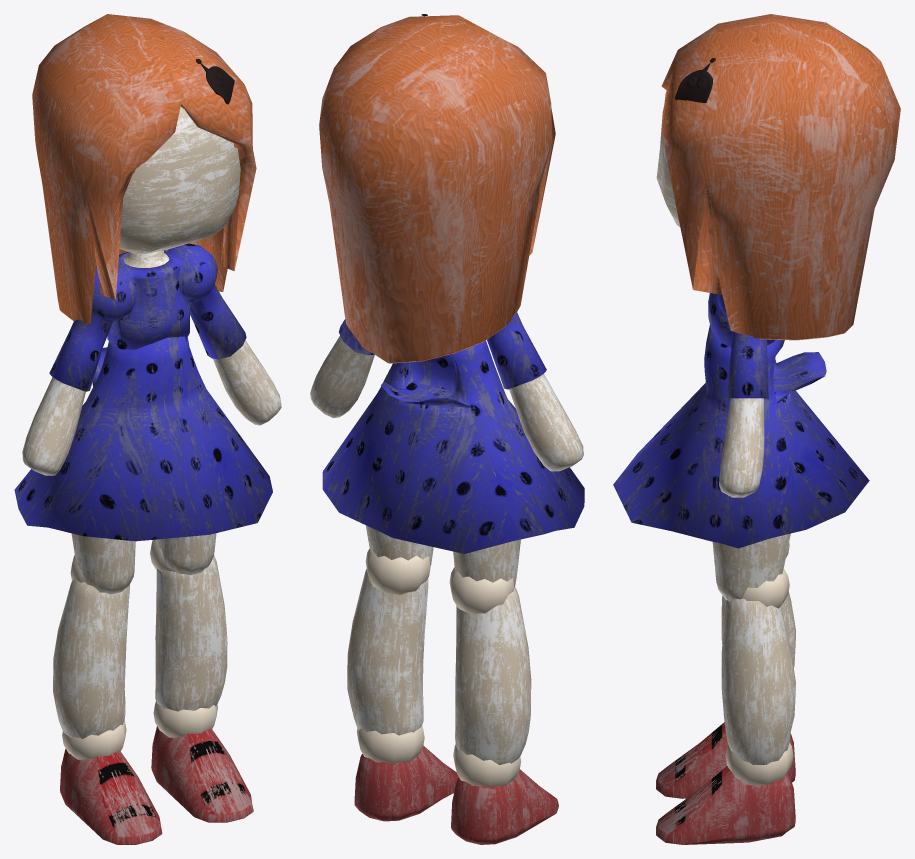
Rendered from boneca.fbx.
3 views of the same model, side by side, from view 1: azimuth 30°, elevation 25°; view 2: azimuth 150°, elevation 25°; view 3: azimuth 270°, elevation 25° (orthographic). The views are drawn at different scales.
Visible parts, largest first — view 1: Bonecalow; view 2: Bonecalow; view 3: Bonecalow.
Boxes of the visible parts, <box> form: Bonecalow: <box>14,14,281,844</box>; Bonecalow: <box>310,14,584,844</box>; Bonecalow: <box>613,14,900,844</box>.
Bounding box in the file's own units: 11.1 × 32.08 × 10.59.
2 materials, 2 textured.
